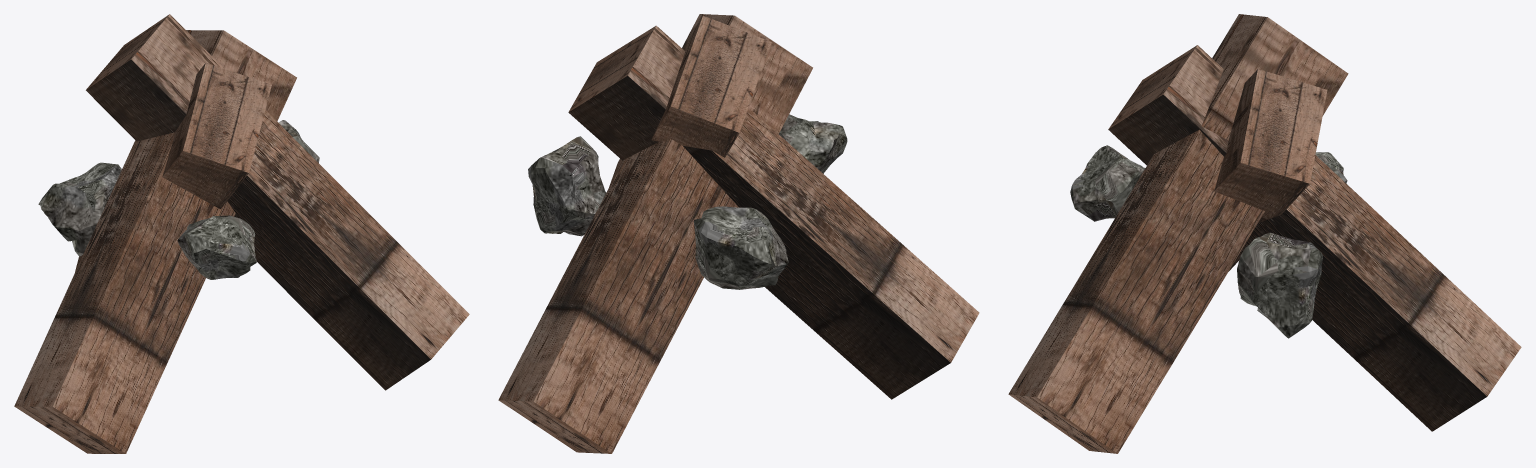
The model's file is maderaCnPiedra.fbx.
3 renders of one model, left to right at view 1: azimuth 30°, elevation 25°; view 2: azimuth 150°, elevation 25°; view 3: azimuth 270°, elevation 25°, orthographic. The views are drawn at different scales.
Visible parts, largest first — view 1: Cube.012; view 2: Cube.012; view 3: Cube.012.
Boxes of the visible parts, left/top/right/bottom form: Cube.012: left=14, top=14, right=469, bottom=453; Cube.012: left=498, top=14, right=979, bottom=453; Cube.012: left=1008, top=14, right=1521, bottom=453.
Size of the model in its own units: 0.2791 by 0.256 by 0.3033.
